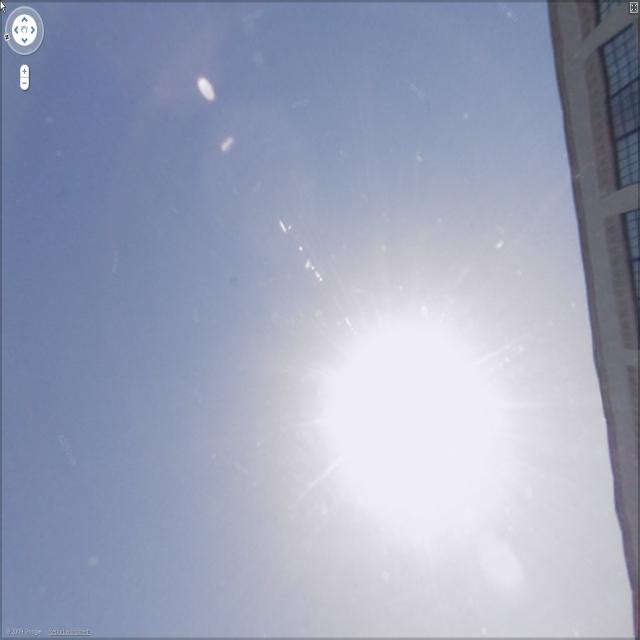b_1: (554, 1, 640, 434)
